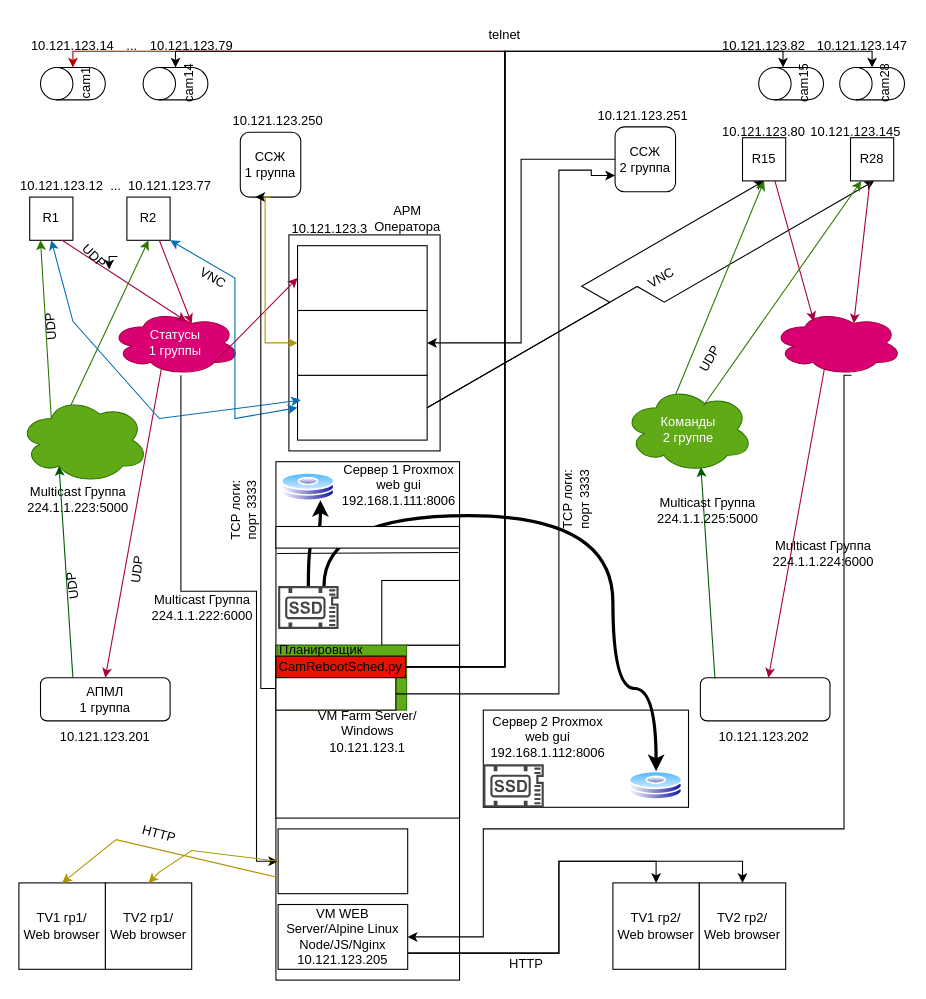
This 926x999 diagram has some shape labels left out. The shapes that lost their labels are listed below. From the top down, each one's centre as x and y in pixels, then its label:
At point (361, 277): "rnq_wc.py отчёты по статусам роботов/счётчикам".
At point (361, 342): "ССЖ web gui".
At point (837, 342): "Статусы 2 группы".
At point (361, 407): "vncShow.py".
At point (83, 439): "Команды 1 группе".
At point (367, 536): "Backups schedler".
At point (420, 612): "VM Alarm Unit/ Windows 10.121.123.2".
At point (335, 693): "logp.py данные logtool".
At point (764, 699): "АПМЛ 2 группа".
At point (342, 861): "VM WEB Server/Alpine Linux Node/JS/Nginx 10.121.123.204".
